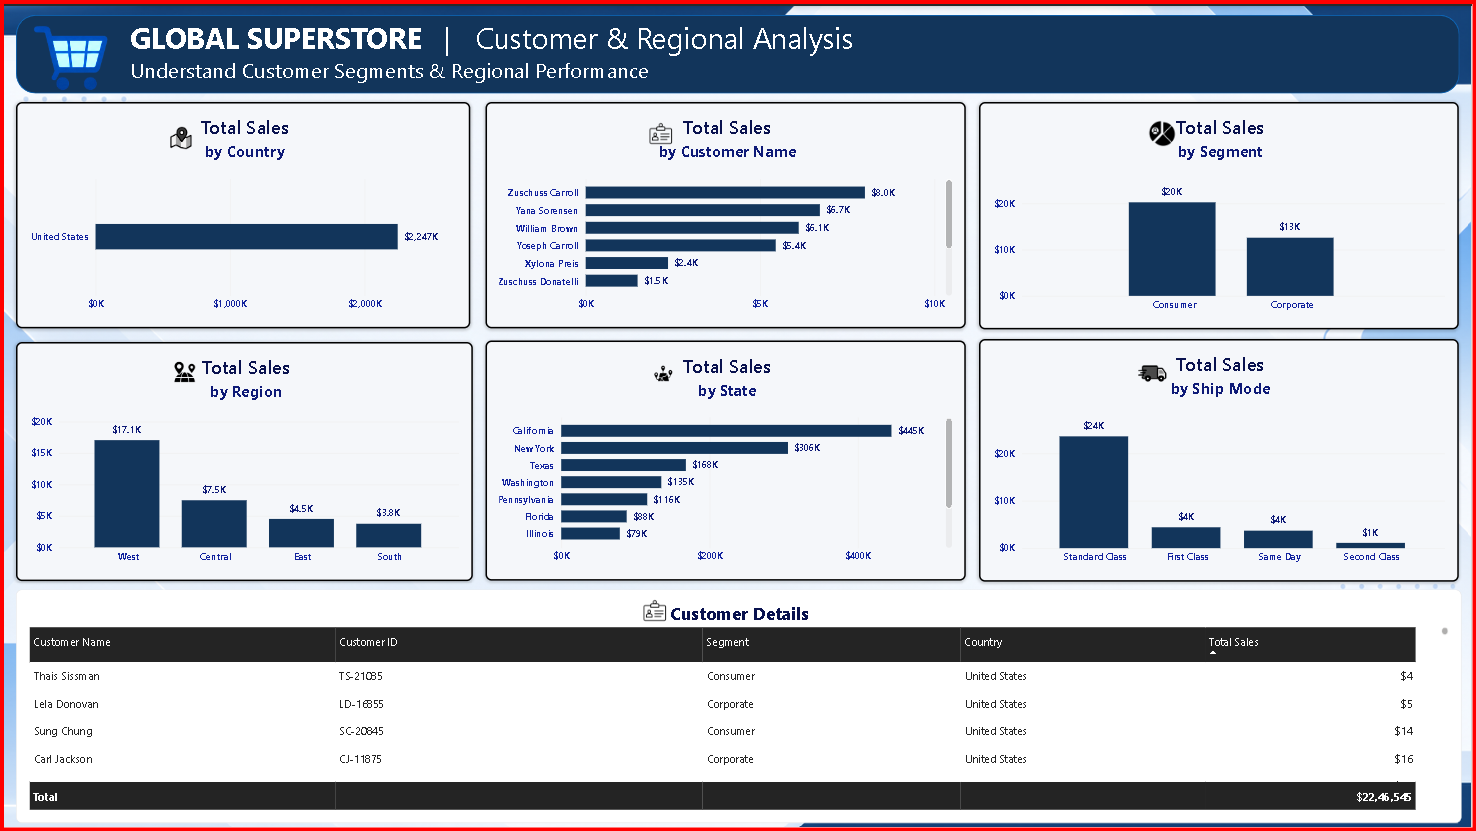

What the dashboard file says about the page in this screenshot:
{"tool":"powerbi","page":{"name":"Customer & Regional Analysis","canvas":[1920,1080],"ordinal":2},"visuals":[{"type":"clusteredBarChart","fields":{"Category":["Global_Superstore_Cleaned.Country"],"Y":["Global_Superstore_Cleaned.Total Sales"]},"box":[16,126,594,296],"z":0},{"type":"clusteredBarChart","fields":{"Category":["Global_Superstore_Cleaned.Customer Name"],"Y":["Global_Superstore_Cleaned.Total Sales"]},"box":[630,126,628,296],"z":1000},{"type":"clusteredColumnChart","fields":{"Category":["Global_Superstore_Cleaned.Segment"],"Y":["Global_Superstore_Cleaned.Total Sales"]},"box":[1275,125,627.5,297.5],"z":2000},{"type":"clusteredColumnChart","fields":{"Category":["Global_Superstore_Cleaned.Region"],"Y":["Global_Superstore_Cleaned.Total Sales"]},"box":[15,440,597.5,312.5],"z":3000},{"type":"clusteredBarChart","fields":{"Category":["Global_Superstore_Cleaned.State"],"Y":["Global_Superstore_Cleaned.Total Sales"]},"box":[630,438,628,314],"z":4000},{"type":"clusteredColumnChart","fields":{"Category":["Global_Superstore_Cleaned.Ship Mode"],"Y":["Global_Superstore_Cleaned.Total Sales"]},"box":[1275,435,627.5,317.5],"z":5000},{"type":"tableEx","title":"Customer Details","fields":{"Values":["Global_Superstore_Cleaned.Customer Name","Global_Superstore_Cleaned.Customer ID","Global_Superstore_Cleaned.Segment","Global_Superstore_Cleaned.Country","Global_Superstore_Cleaned.Total Sales"]},"box":[15,762.5,1890,305],"z":6000},{"type":"textbox","box":[39.9,15.6,1840.1,115],"z":9000,"group":"g1"},{"type":"image","box":[17.5,15.6,139.6,105],"z":10000,"group":"g1"},{"type":"shape","box":[15,12.5,1887.5,102.5],"z":11000},{"type":"group","id":"g1","title":"Group 2","box":[17.5,15.6,1862.5,115],"z":12000},{"type":"image","box":[190,155,82.5,35],"z":13000},{"type":"image","box":[817.5,150,82.5,35],"z":14000},{"type":"image","box":[1472.5,150,82.5,35],"z":15000},{"type":"image","box":[200,465,72.5,27.5],"z":16000},{"type":"image","box":[825,467.5,72.5,27.5],"z":17000},{"type":"image","box":[1465,467.5,72.5,27.5],"z":18000},{"type":"image","box":[810,772.5,82.5,35],"z":19000}]}

Visuals, with their boxes in screenshot pixels (x1, y1, x2, y2), scaled from the page's 1920x1080 canvas onto the 1476x831 screenshot:
clusteredBarChart - Global_Superstore_Cleaned.Country x Global_Superstore_Cleaned.Total Sales: box(12, 97, 469, 325)
clusteredBarChart - Global_Superstore_Cleaned.Customer Name x Global_Superstore_Cleaned.Total Sales: box(484, 97, 967, 325)
clusteredColumnChart - Global_Superstore_Cleaned.Segment x Global_Superstore_Cleaned.Total Sales: box(980, 96, 1463, 325)
clusteredColumnChart - Global_Superstore_Cleaned.Region x Global_Superstore_Cleaned.Total Sales: box(12, 339, 471, 579)
clusteredBarChart - Global_Superstore_Cleaned.State x Global_Superstore_Cleaned.Total Sales: box(484, 337, 967, 579)
clusteredColumnChart - Global_Superstore_Cleaned.Ship Mode x Global_Superstore_Cleaned.Total Sales: box(980, 335, 1463, 579)
"Customer Details" tableEx: box(12, 587, 1464, 821)
textbox: box(31, 12, 1445, 100)
image: box(13, 12, 121, 93)
shape: box(12, 10, 1463, 88)
"Group 2" group: box(13, 12, 1445, 100)
image: box(146, 119, 209, 146)
image: box(628, 115, 692, 142)
image: box(1132, 115, 1195, 142)
image: box(154, 358, 209, 379)
image: box(634, 360, 690, 381)
image: box(1126, 360, 1182, 381)
image: box(623, 594, 686, 621)
